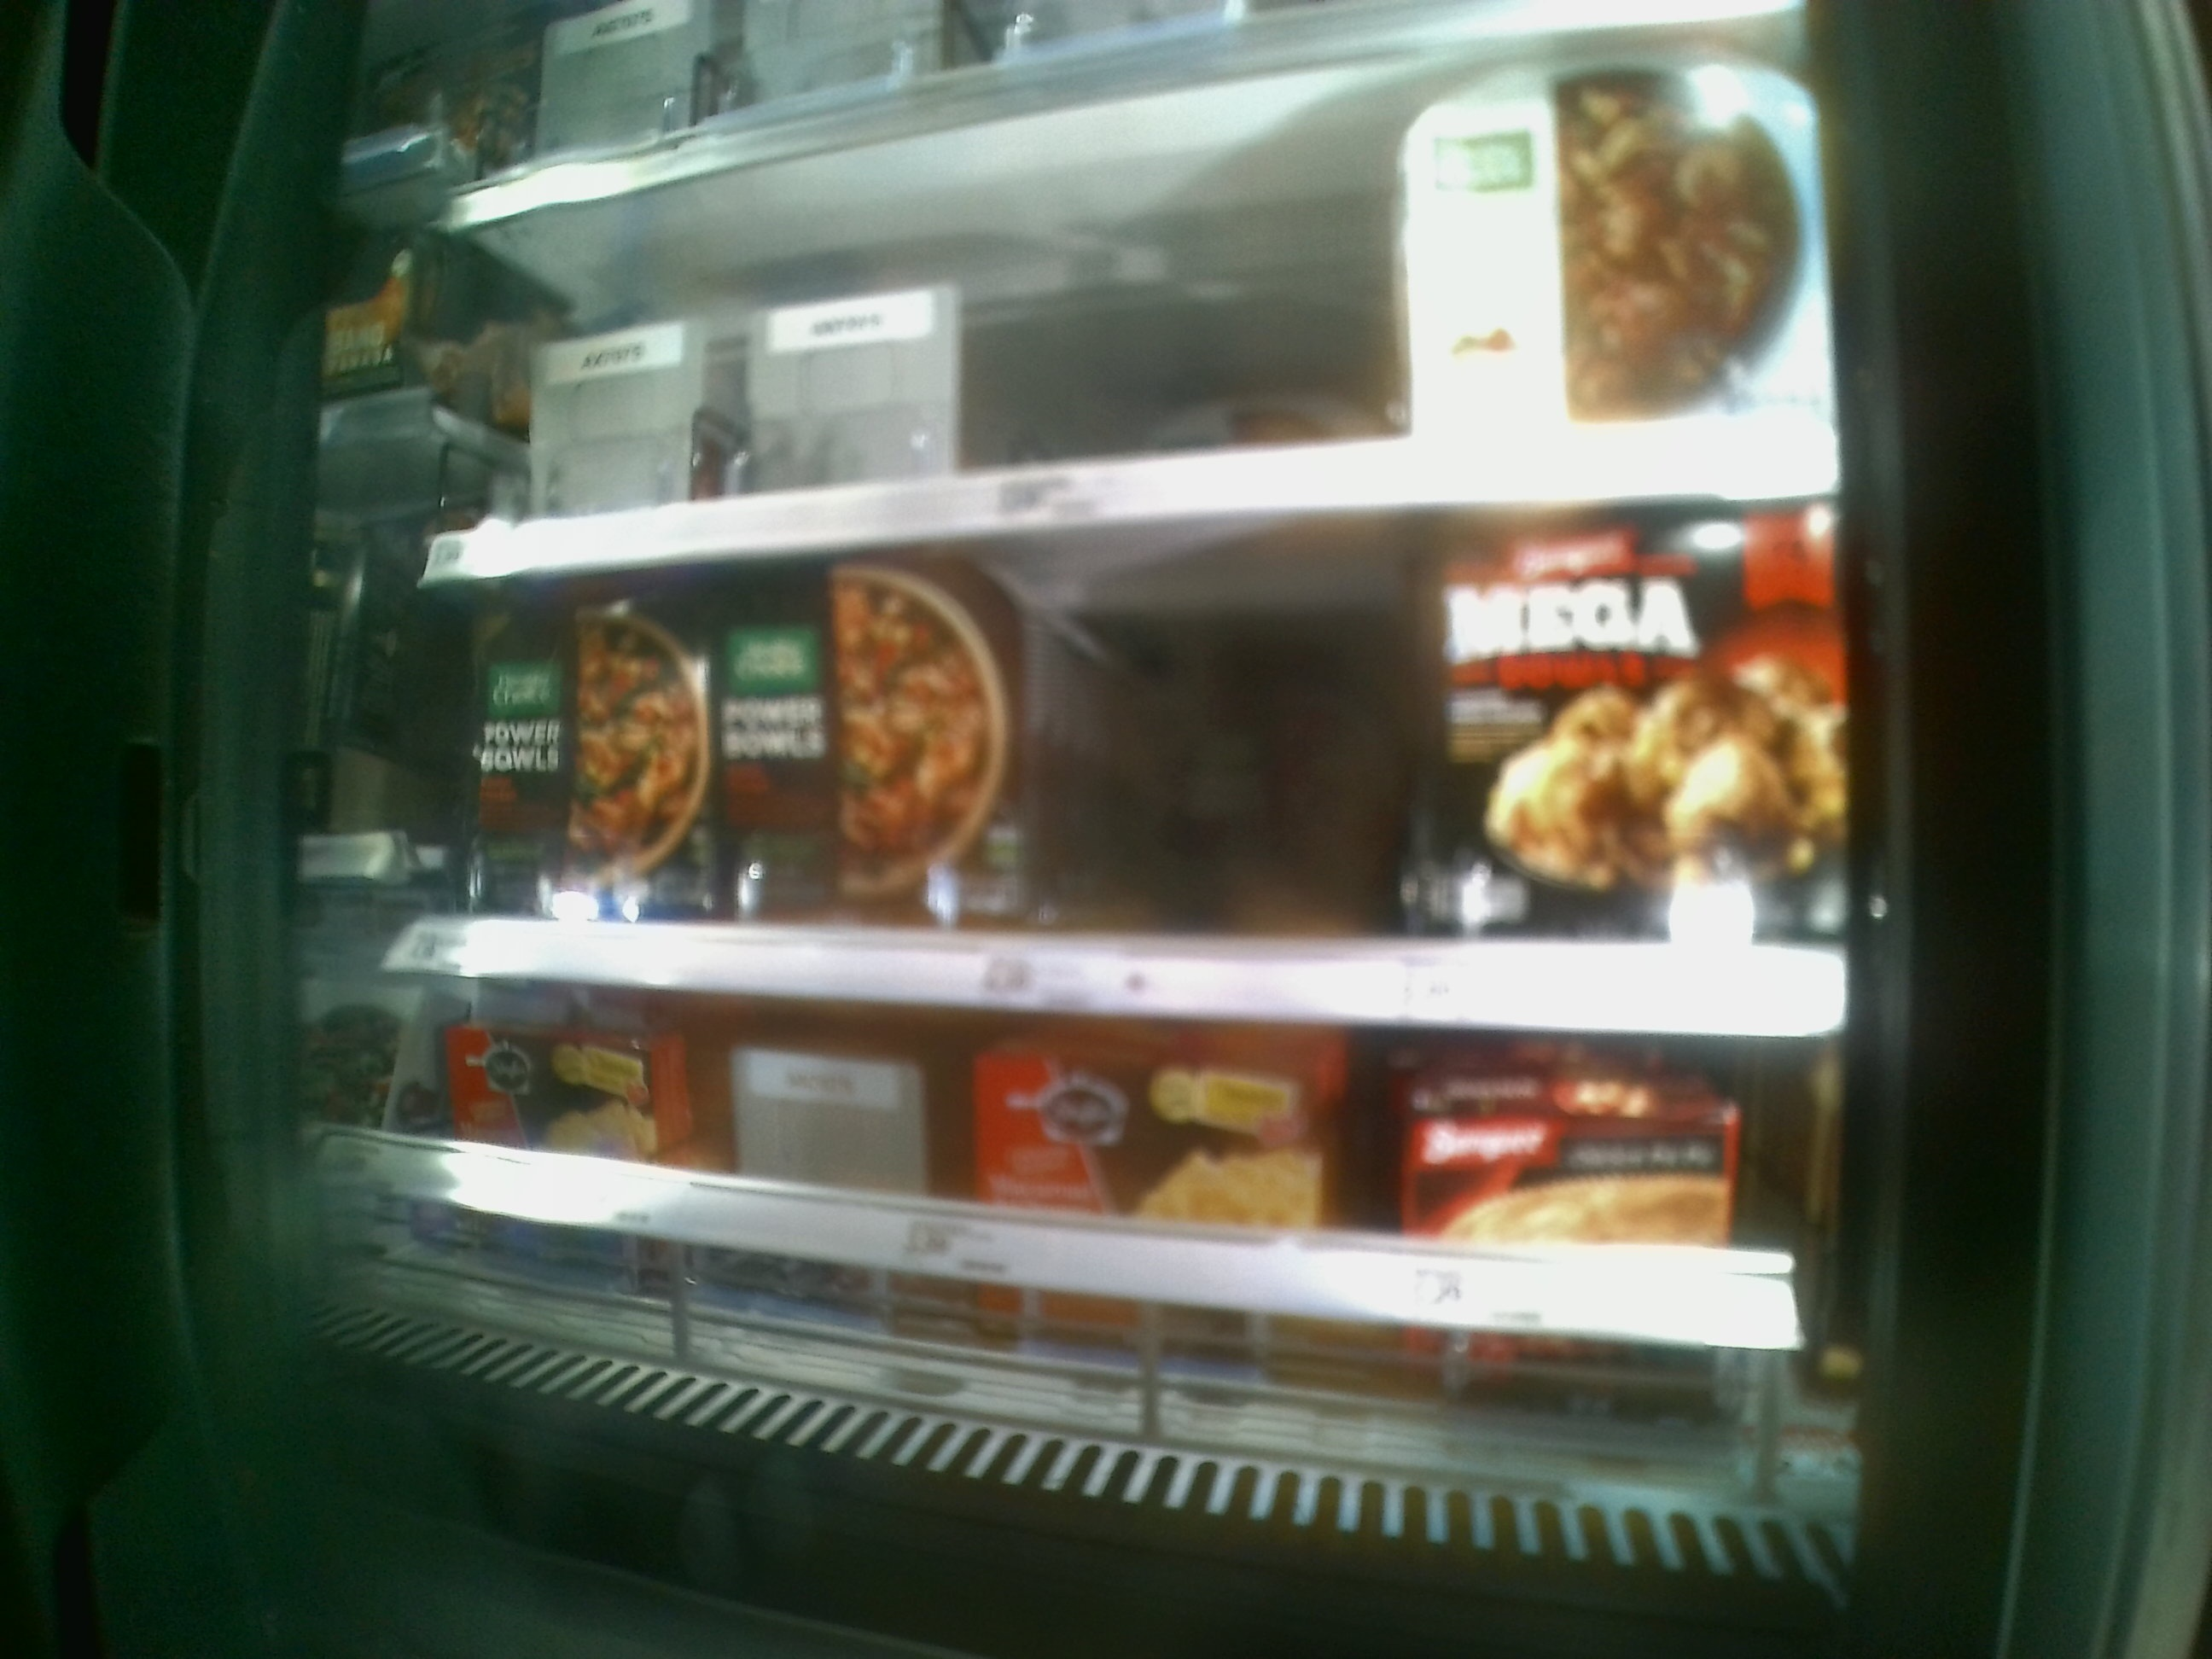shelf: (411, 493, 1834, 1042), (369, 978, 1851, 1486)
